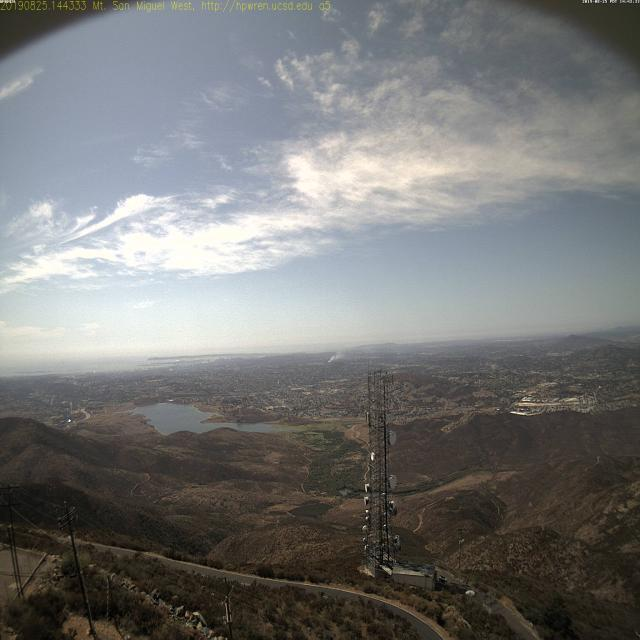smoke: (324, 347, 344, 367)
